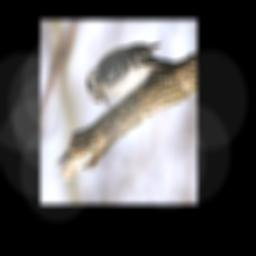Woodpecker: (80, 37, 177, 109)
